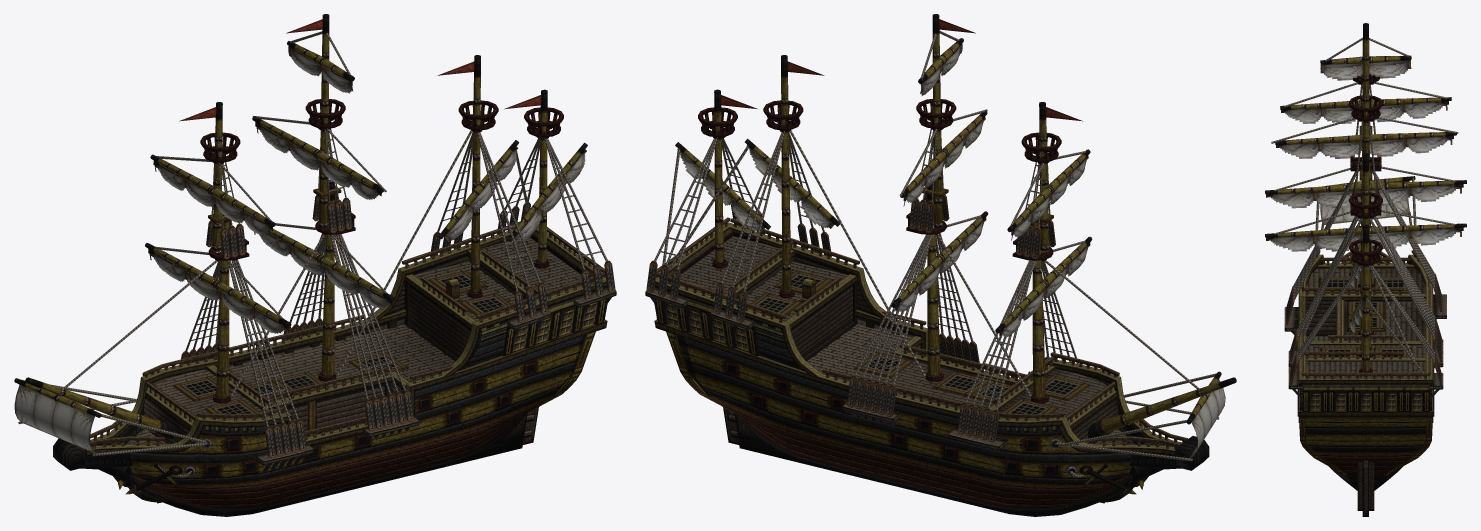
Rendered from EnvObjMD_Ship_A.FBX.
The picture shows the model from 3 angles, left to right: view 1: azimuth 30°, elevation 25°; view 2: azimuth 150°, elevation 25°; view 3: azimuth 270°, elevation 25°; orthographic projection. The views are drawn at different scales.
Parts seen in each view (by area): view 1: EnvObjMD_Ship_A_Anchor; view 2: EnvObjMD_Ship_A_Anchor; view 3: EnvObjMD_Ship_A_Anchor.
Part boxes in pixels (x1,y1,x2,y2): EnvObjMD_Ship_A_Anchor: (14, 14, 616, 516); EnvObjMD_Ship_A_Anchor: (645, 14, 1236, 516); EnvObjMD_Ship_A_Anchor: (1265, 23, 1466, 516).
Size of the model in its own units: 2185 by 796 by 1771.
Materials: 1 (1 with a texture image).
